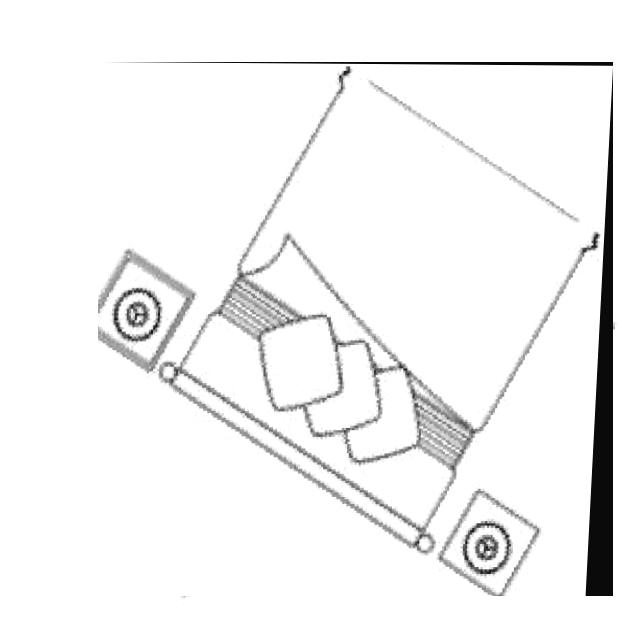bed: (98, 62, 613, 596)
